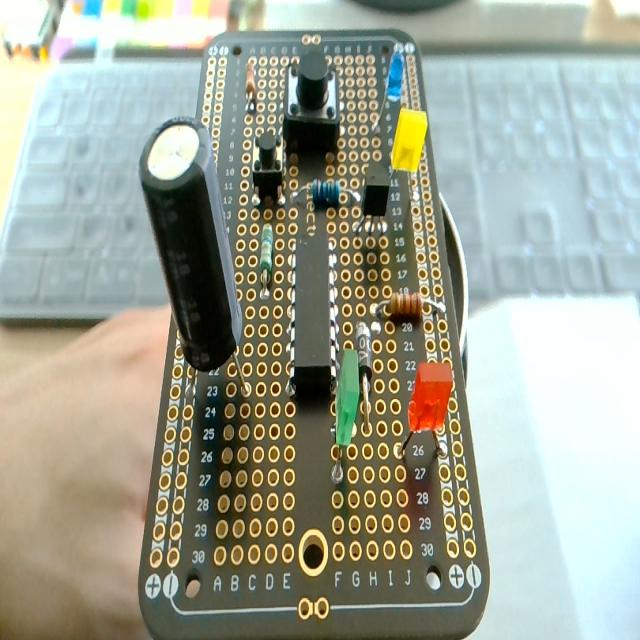Electrolytic capacitor: (142, 124, 248, 408)
IC: (285, 235, 337, 402)
diode: (356, 322, 373, 432)
led: (401, 362, 452, 462), (332, 350, 359, 485), (372, 50, 406, 131), (391, 108, 427, 174)
resistor: (258, 224, 273, 298), (389, 290, 422, 320), (312, 178, 340, 209), (244, 60, 256, 105)
switch: (284, 53, 339, 150), (252, 130, 284, 203)
transistor: (354, 161, 391, 245)
